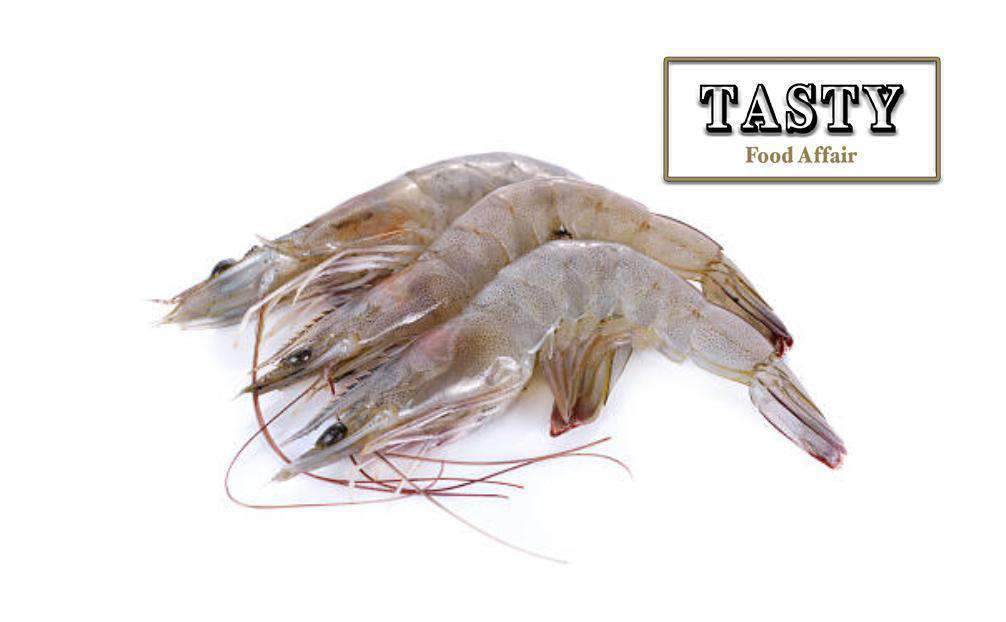White Prawn: (291, 238, 885, 481)
